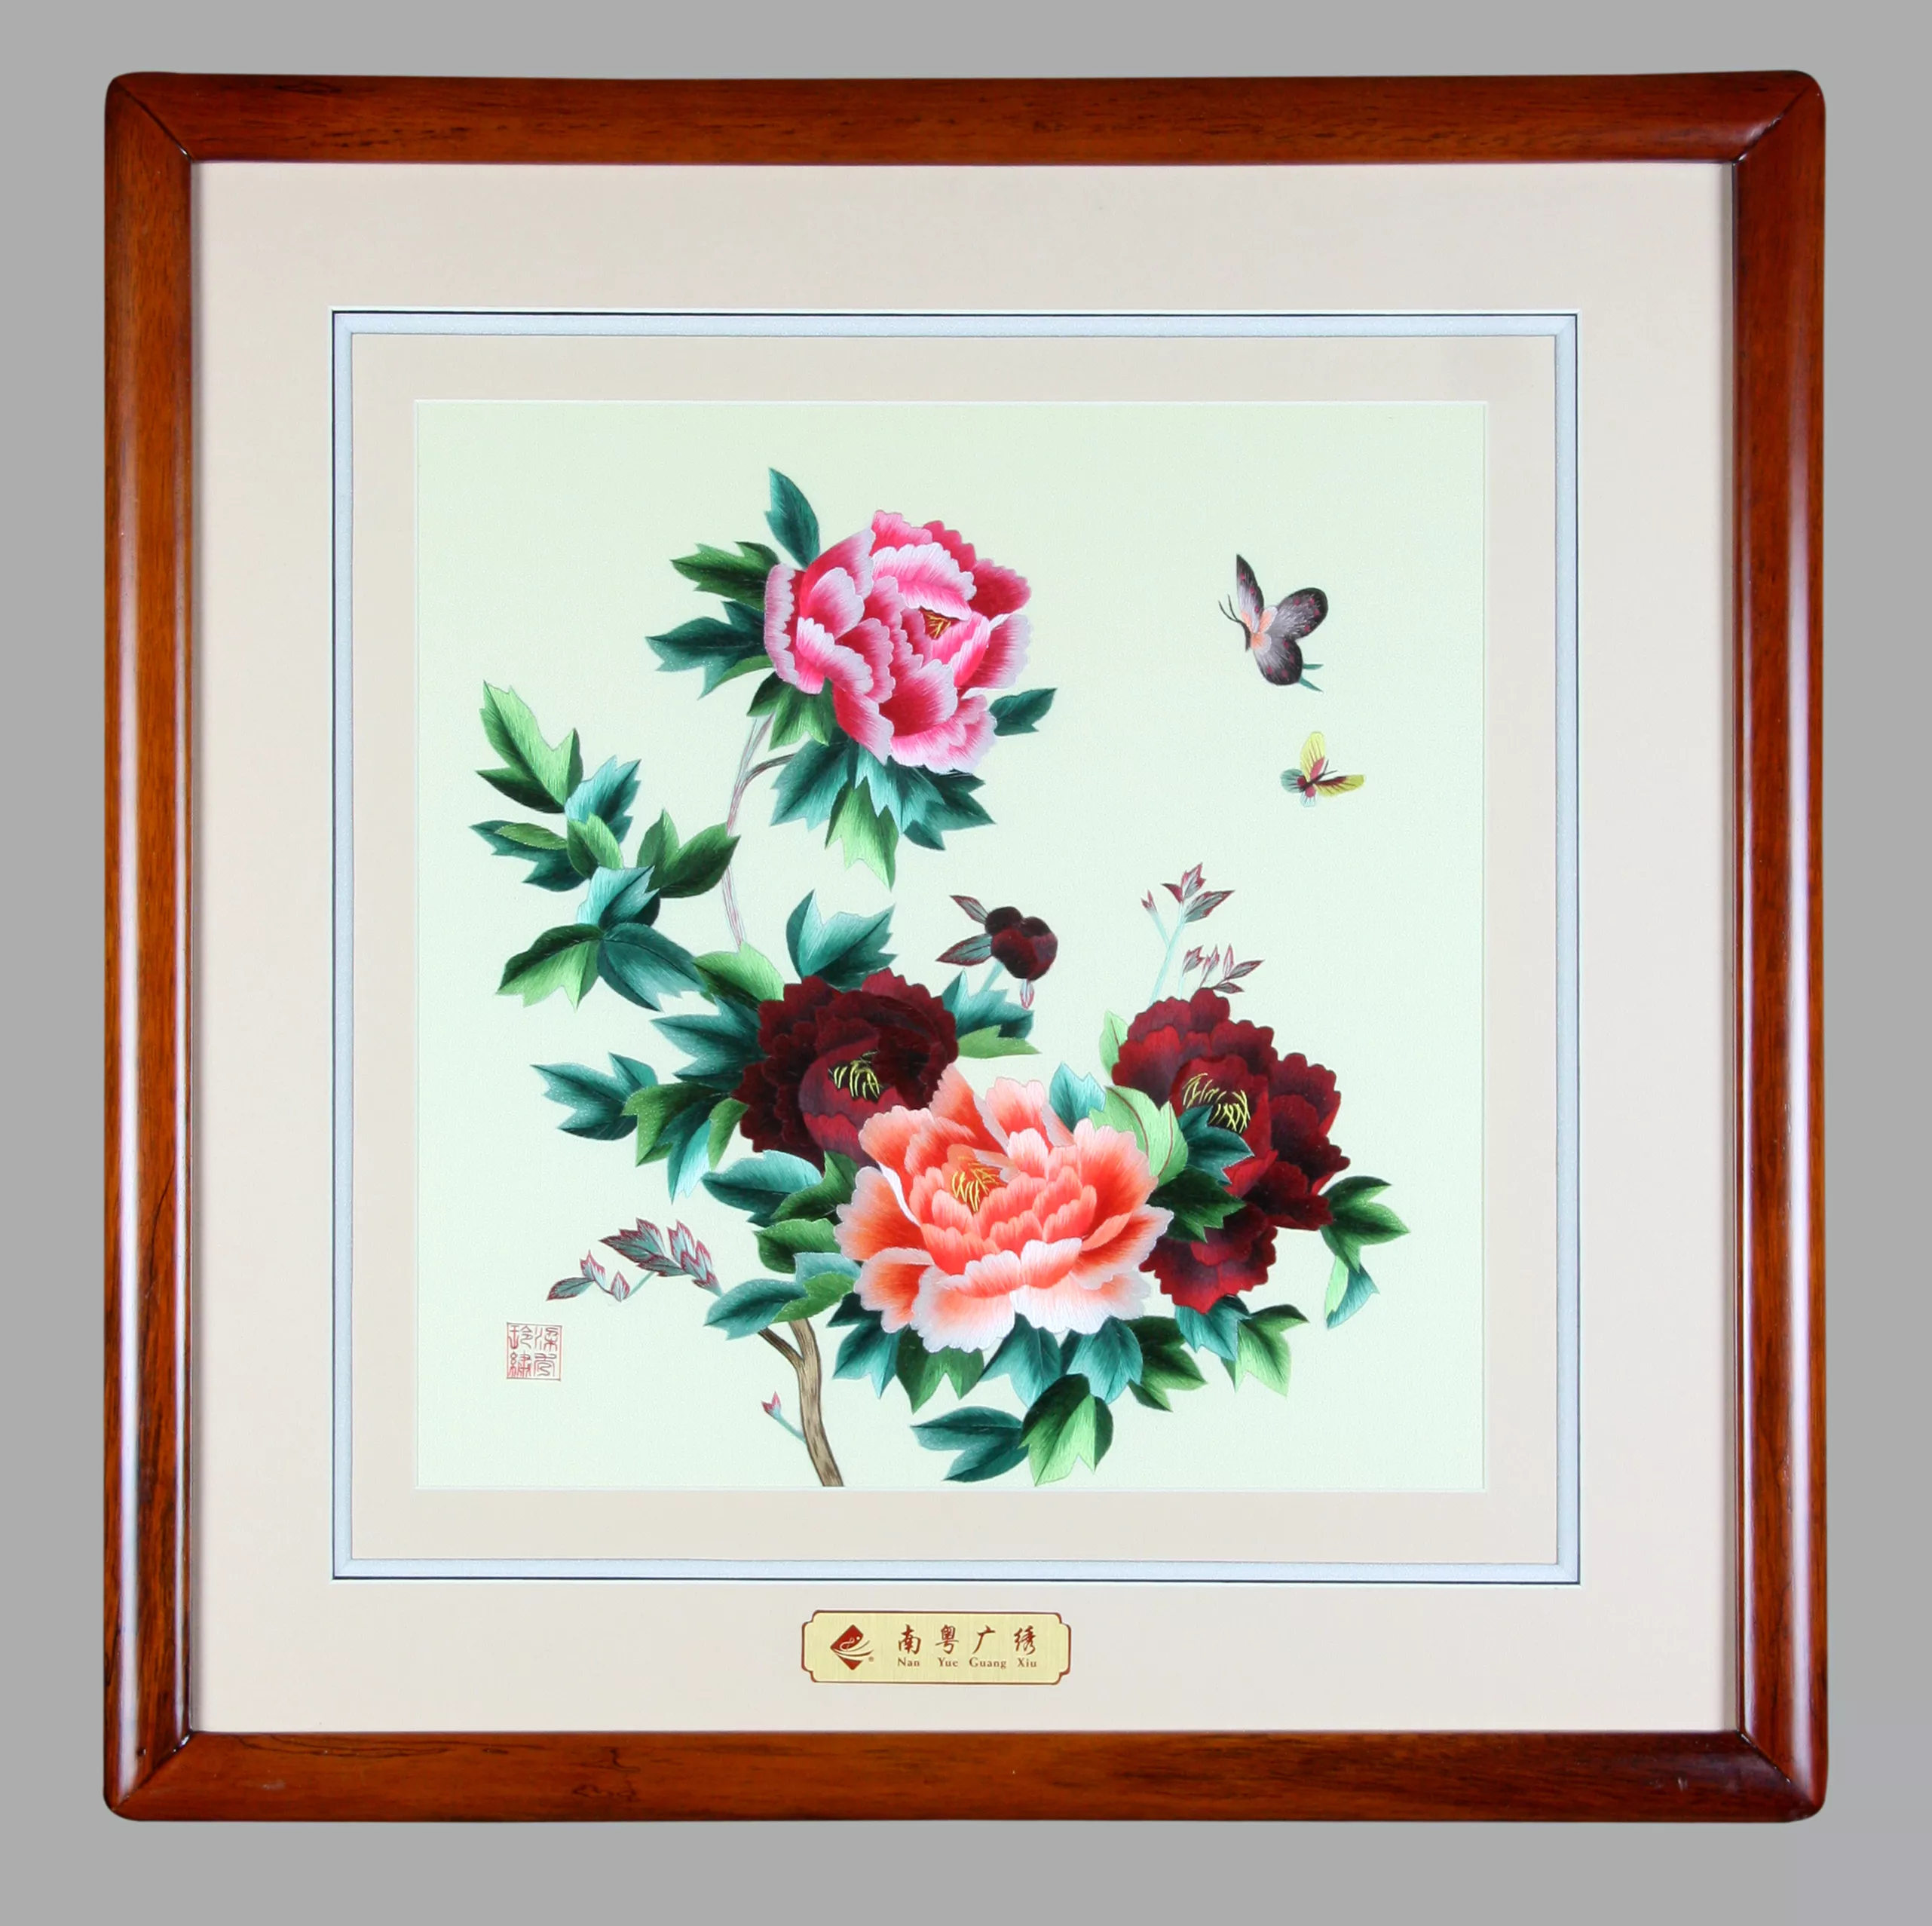flower: (834, 1061, 1169, 1342), (759, 506, 1036, 768), (1105, 989, 1347, 1247), (732, 966, 960, 1156)
